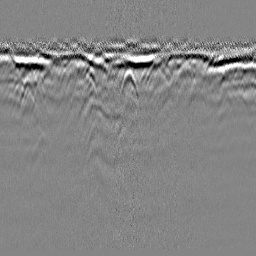cavity: (118, 67, 140, 99)
